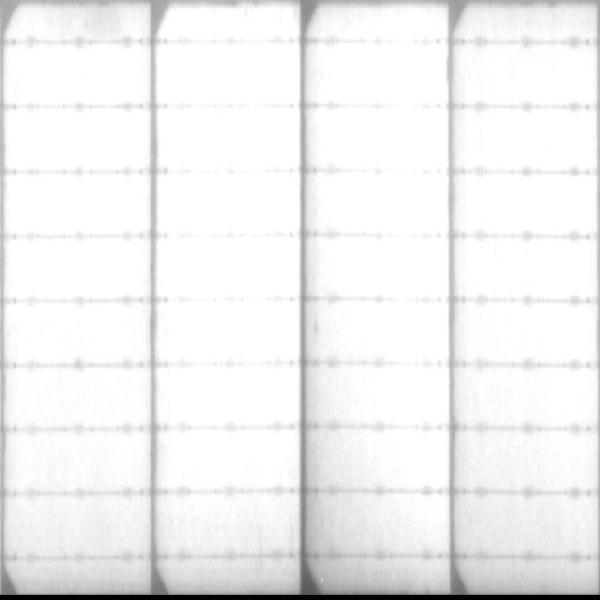hot_spot: (165, 176, 290, 233), (171, 300, 292, 356), (170, 238, 292, 291), (13, 178, 145, 226), (17, 242, 143, 292), (12, 46, 133, 98), (166, 370, 294, 419), (169, 113, 294, 163), (473, 179, 594, 230), (469, 118, 592, 168), (168, 47, 288, 97), (326, 44, 440, 96), (16, 115, 135, 164), (328, 242, 442, 292), (20, 308, 136, 355), (328, 177, 441, 225), (486, 49, 591, 100), (473, 242, 587, 288), (344, 304, 440, 354), (21, 375, 138, 416), (482, 309, 592, 352), (332, 116, 439, 159), (373, 374, 444, 418), (390, 435, 444, 478)
